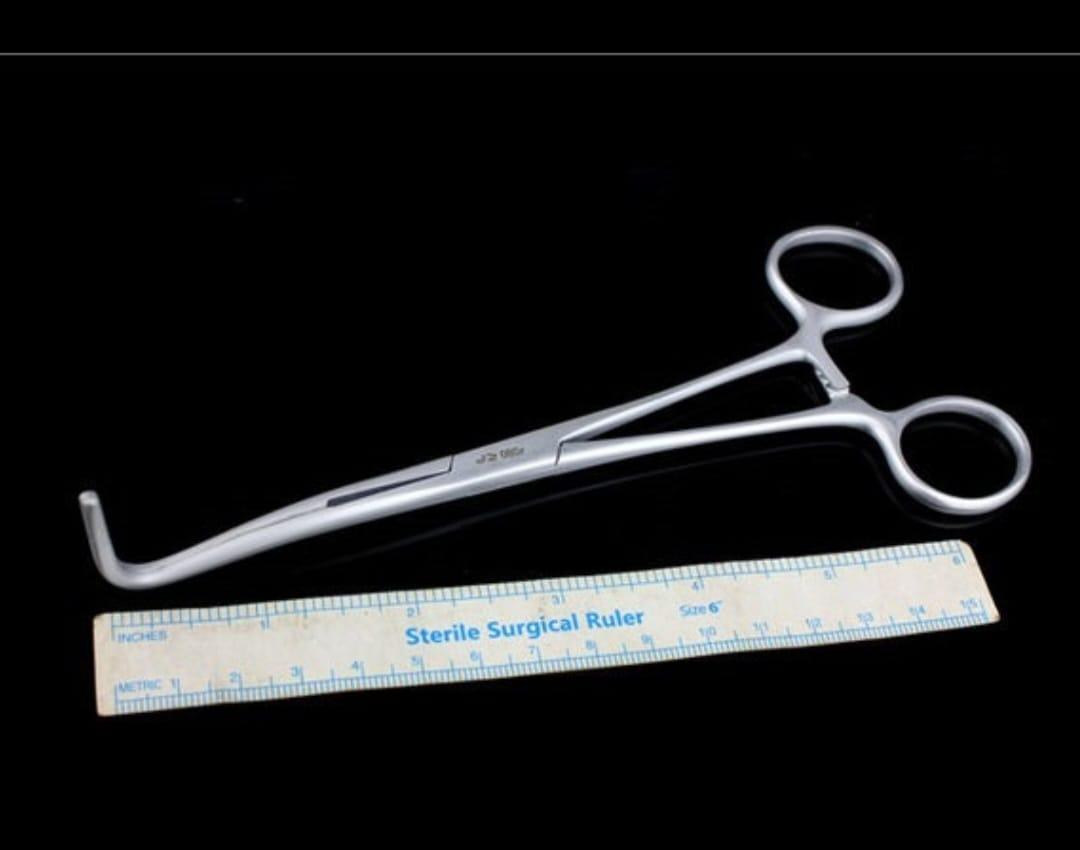Rectangle Cholecystectomy Forceps: (70, 215, 1035, 594)
